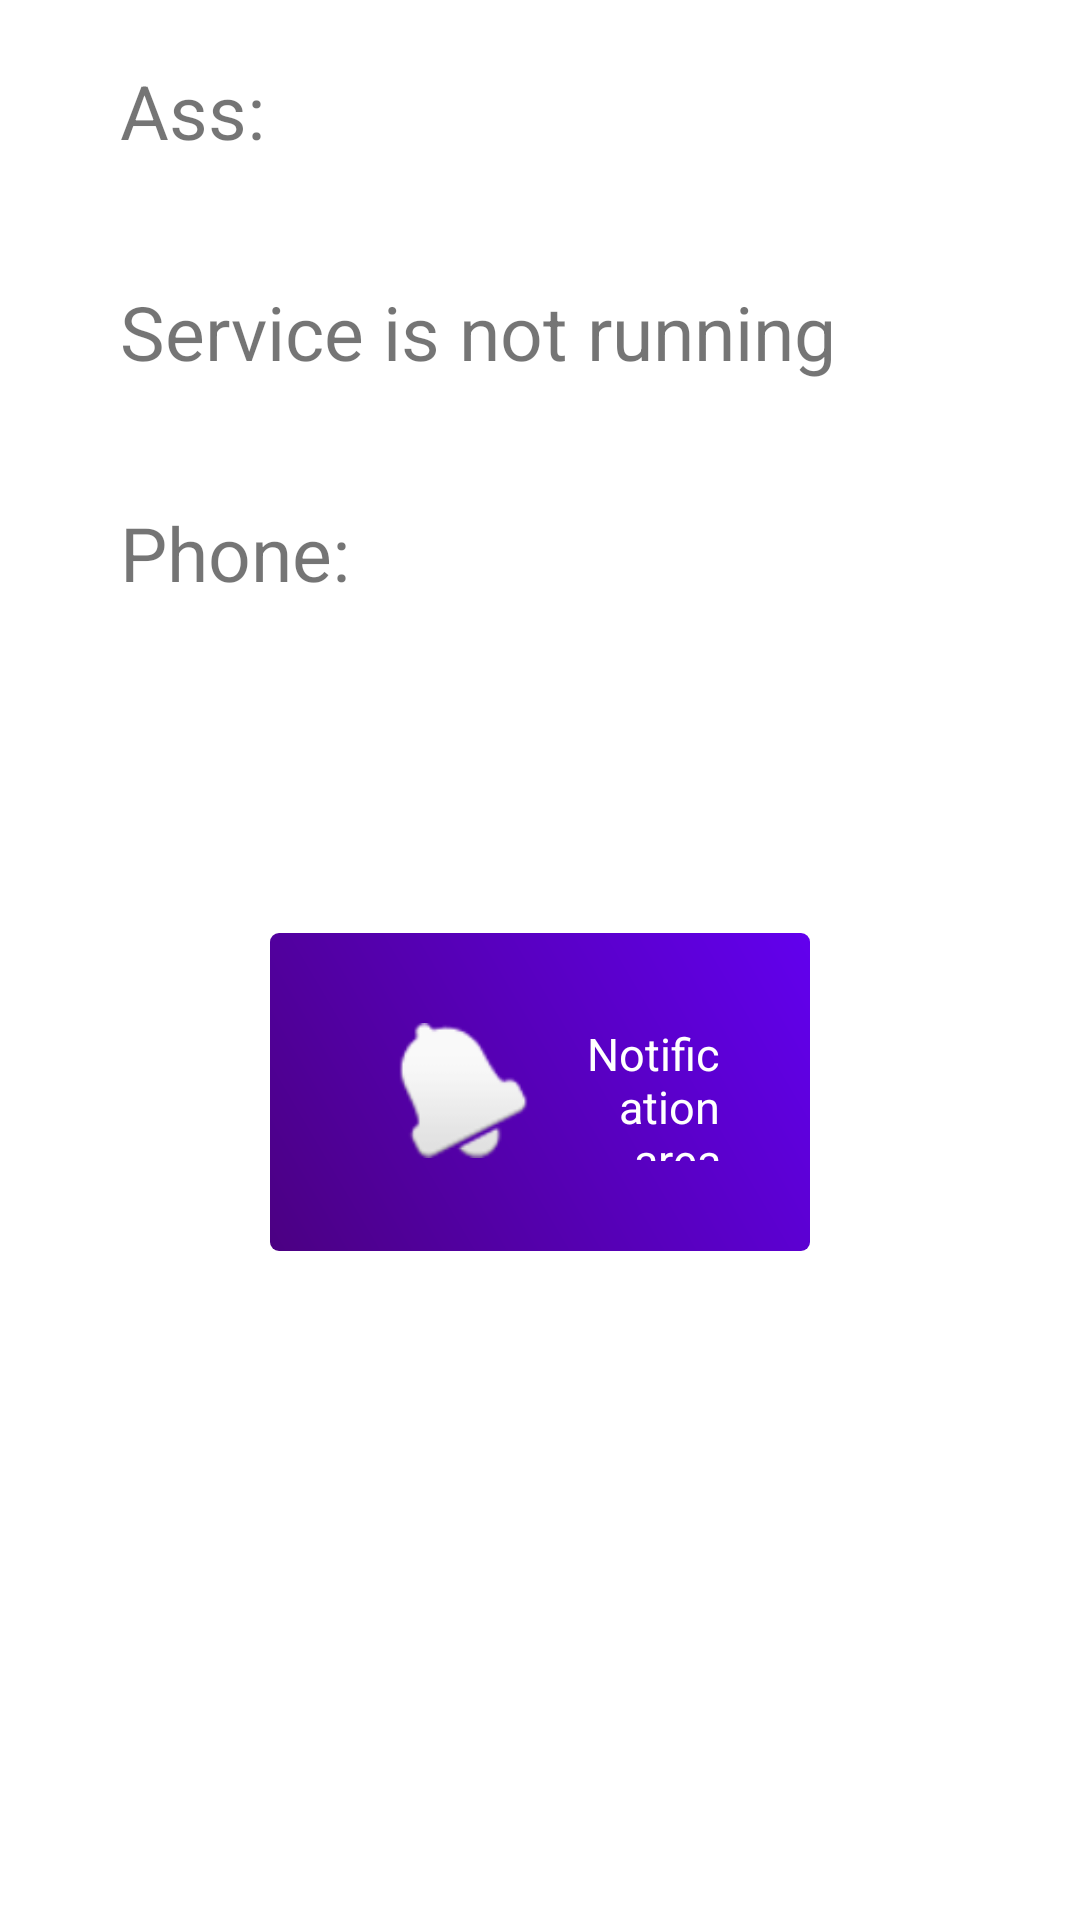

Named icons in this screenshot (1080w x 1920h) and their centers, [x,y]:
popup reminder: [491,1090]
